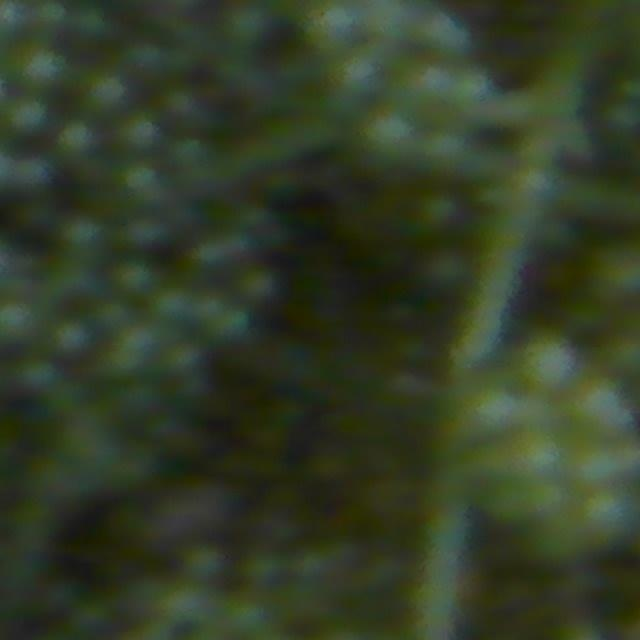SeaGrape: (311, 45, 390, 106), (455, 378, 522, 441), (576, 483, 640, 547), (518, 337, 576, 398), (409, 11, 469, 68), (496, 427, 560, 479), (303, 0, 364, 52), (13, 43, 72, 96), (573, 384, 628, 440), (361, 108, 421, 159), (565, 445, 615, 497), (162, 580, 216, 628), (424, 127, 472, 180), (0, 90, 54, 137), (403, 62, 448, 118), (449, 67, 494, 117), (223, 591, 269, 639), (0, 298, 42, 346), (115, 112, 160, 155), (80, 73, 124, 116), (183, 542, 227, 585), (118, 167, 165, 207), (54, 118, 95, 162)
